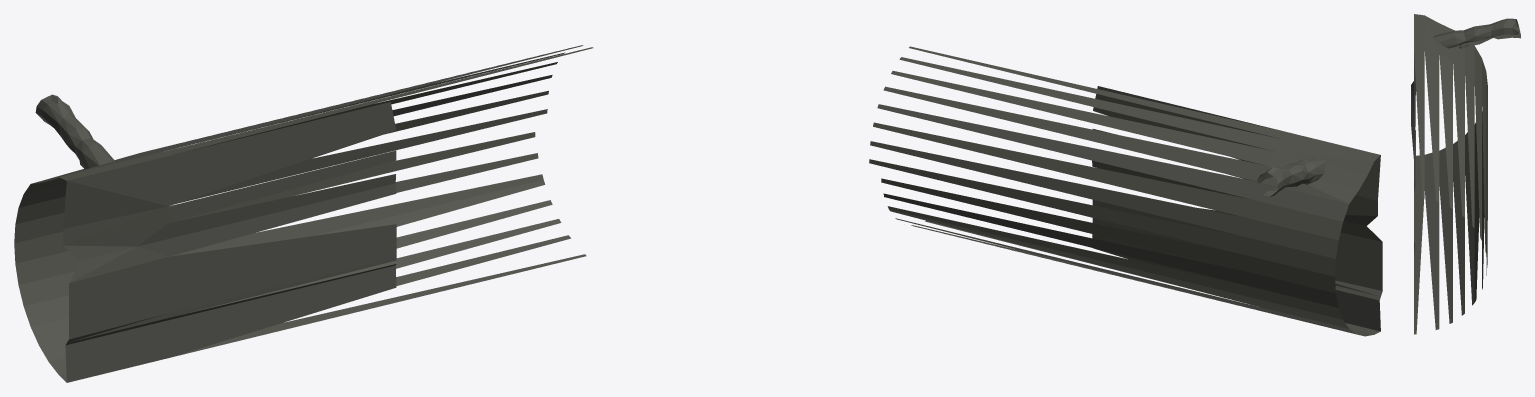
3 renders of one model, left to right at view 1: azimuth 30°, elevation 25°; view 2: azimuth 150°, elevation 25°; view 3: azimuth 270°, elevation 25°, orthographic. The views are drawn at different scales.
Size of the model in its own units: 1.87 by 0.6525 by 0.3816.
